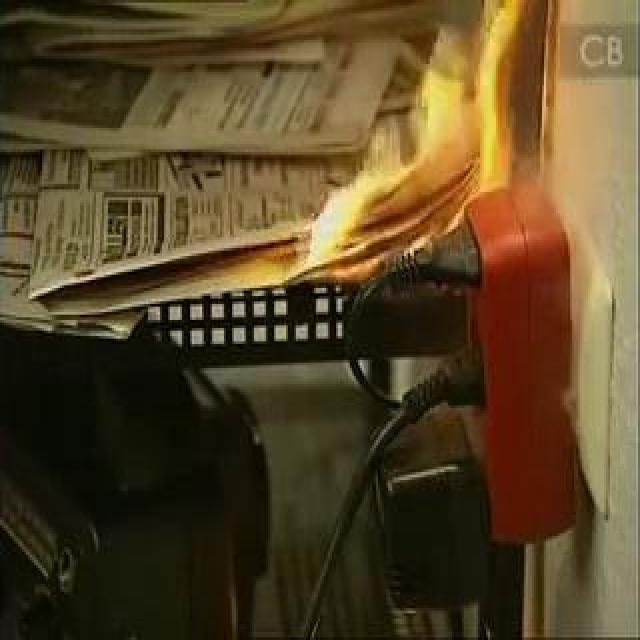Fire: (230, 2, 524, 314)
